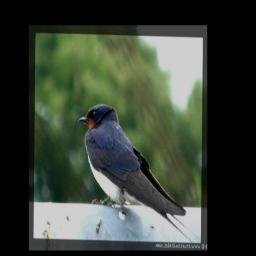Swallow: (77, 103, 201, 249)
